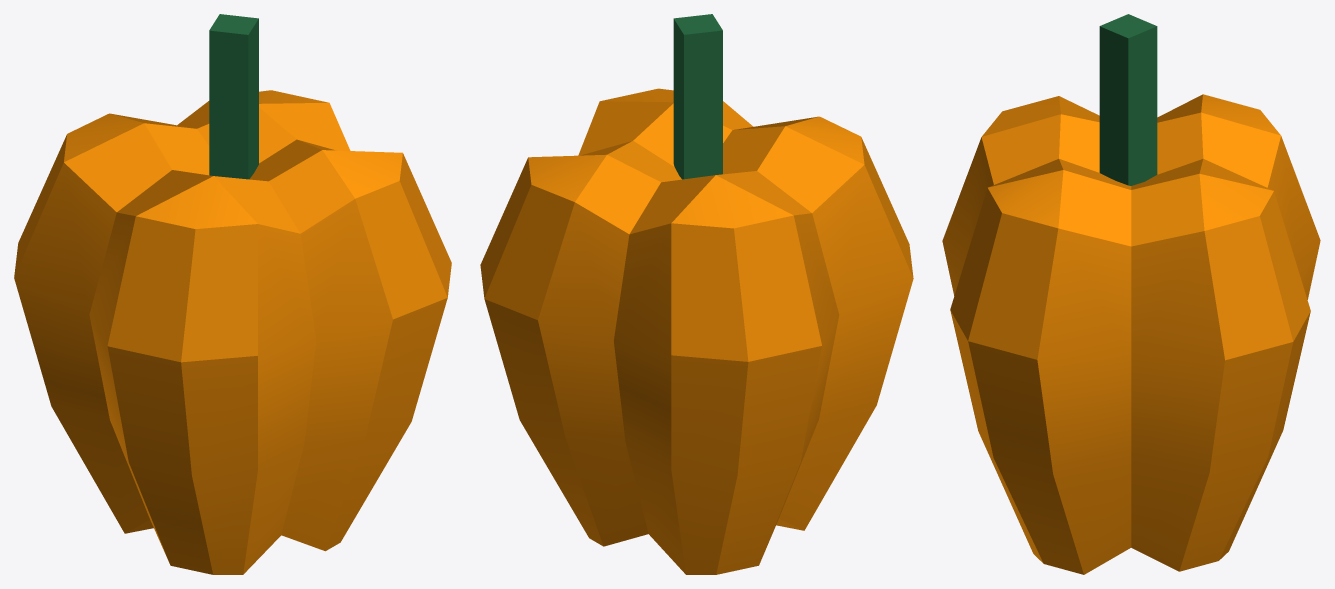
Rendered from bellpepper_3.FBX.
The picture shows the model from 3 angles, left to right: view 1: azimuth 30°, elevation 25°; view 2: azimuth 150°, elevation 25°; view 3: azimuth 270°, elevation 25°; orthographic projection.
Parts seen in each view (by area): view 1: bellpepper_3; view 2: bellpepper_3; view 3: bellpepper_3.
Boxes of the visible parts, x1,y1,x2,y2 form: bellpepper_3: (14, 14, 451, 574); bellpepper_3: (480, 14, 913, 574); bellpepper_3: (942, 14, 1320, 574).
Bounding box in the file's own units: 0.1367 × 0.1918 × 0.1291.
Materials: 1 (1 with a texture image).
